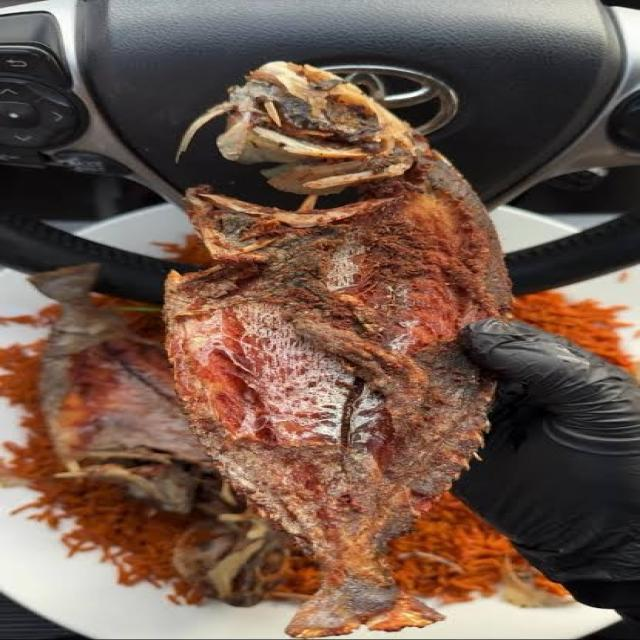Fried Fish: (108, 48, 590, 610)
